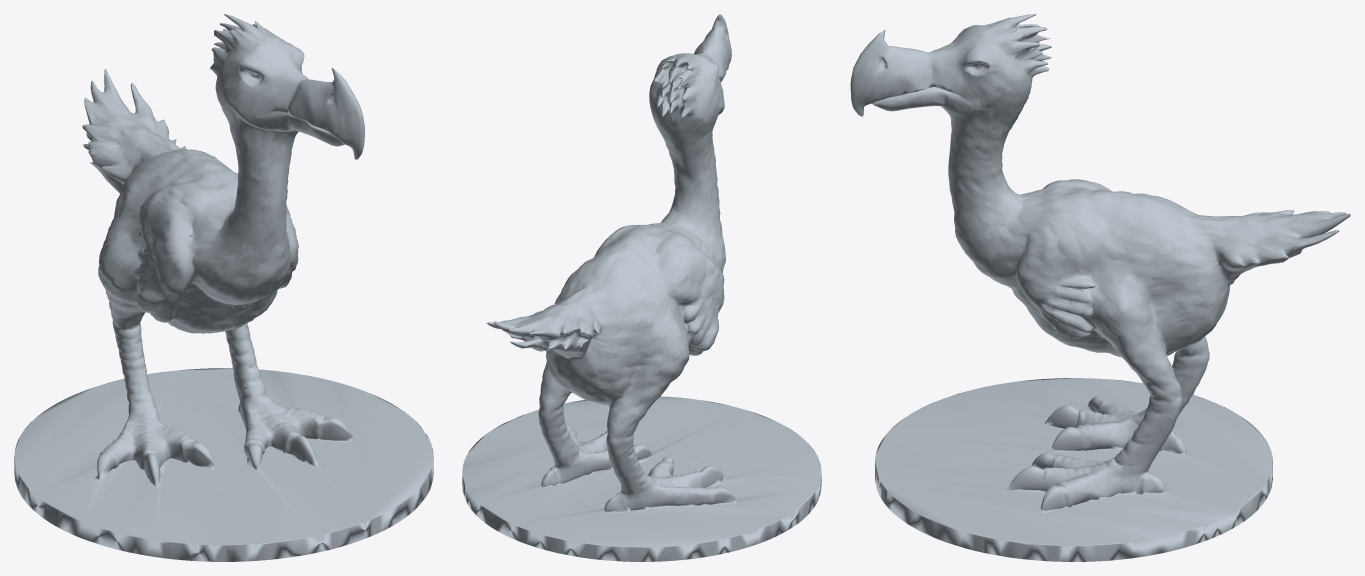
Rendered from axe-beak.glb.
The picture shows the model from 3 angles, left to right: view 1: azimuth 30°, elevation 25°; view 2: azimuth 150°, elevation 25°; view 3: azimuth 270°, elevation 25°; orthographic projection. The views are drawn at different scales.
Parts seen in each view (by area): view 1: Axe_Beak.001; view 2: Axe_Beak.001; view 3: Axe_Beak.001.
Boxes of the visible parts, x1,y1,x2,y2 form: Axe_Beak.001: [14, 14, 433, 561]; Axe_Beak.001: [462, 14, 821, 561]; Axe_Beak.001: [850, 14, 1350, 561].
Size of the model in its own units: 50.48 by 63.74 by 63.46.
Materials: 1 (1 with a texture image).
